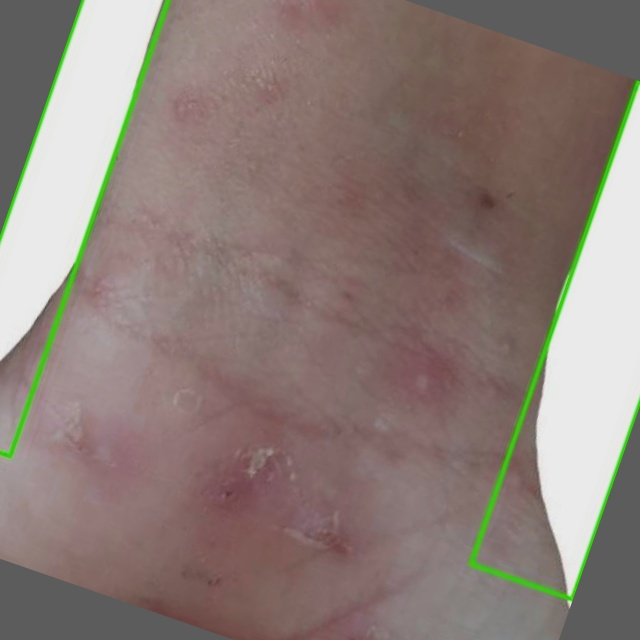Scabies: (469, 81, 639, 600), (0, 0, 168, 456)
